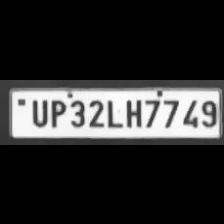2: (86, 96, 104, 128)
3: (66, 96, 86, 127)
4: (178, 94, 200, 128)
7: (158, 96, 178, 128), (141, 96, 159, 127)
9: (196, 96, 218, 128)
H: (122, 96, 142, 127)
L: (104, 96, 122, 128)
P: (47, 97, 66, 127)
U: (28, 96, 48, 126)
